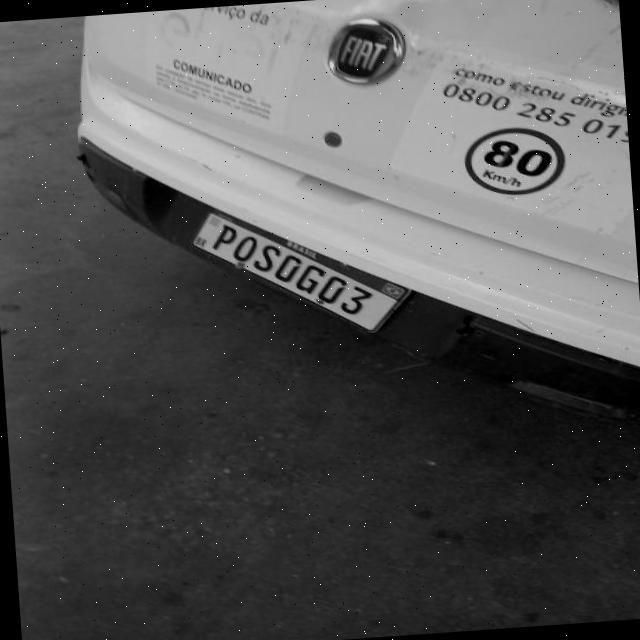placa_mercosul: (190, 209, 407, 331)
